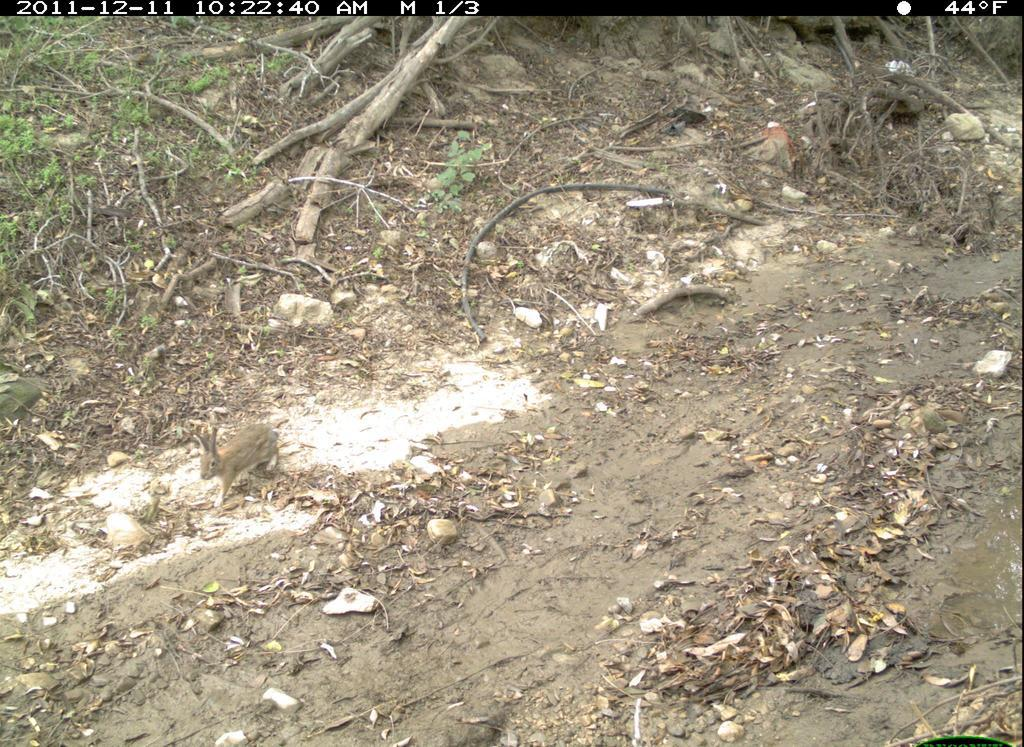rabbit: (191, 411, 289, 515)
